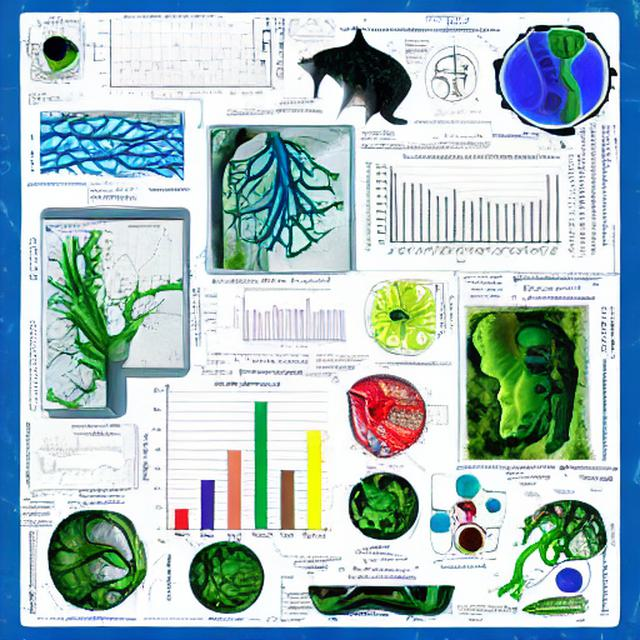Graph: (141, 380, 332, 538), (361, 150, 565, 268), (92, 14, 244, 103), (231, 286, 348, 352), (104, 221, 180, 278), (37, 447, 89, 485), (288, 11, 338, 45)
